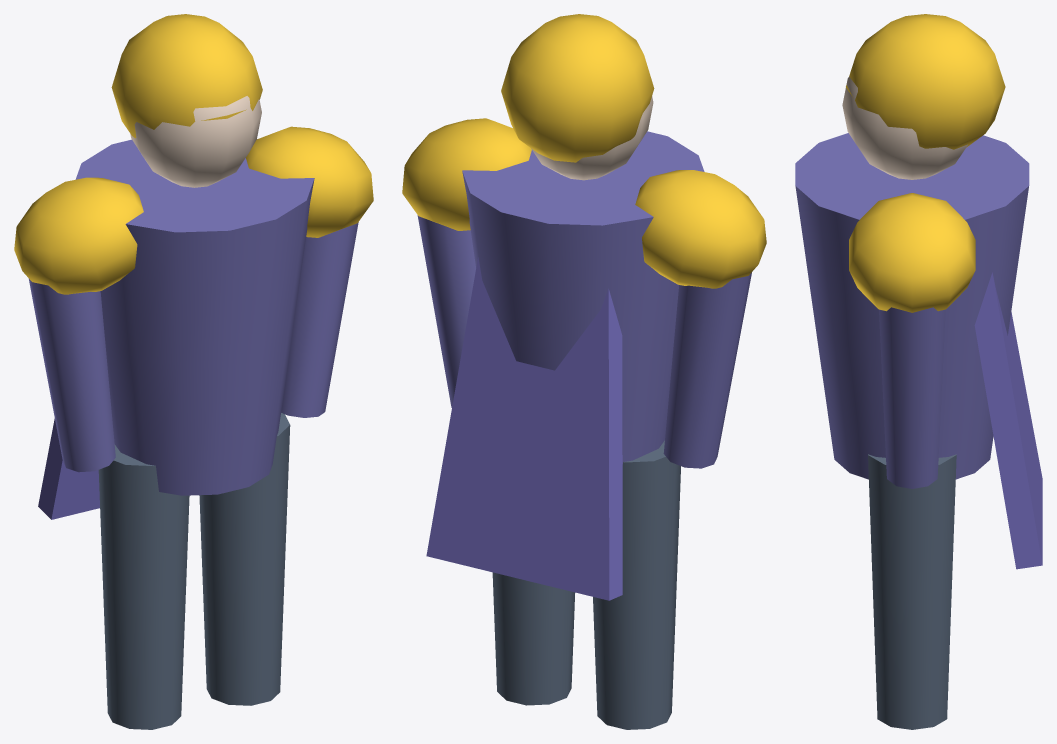
Rendered from hero_mg.glb.
The picture shows the model from 3 angles, left to right: view 1: azimuth 30°, elevation 25°; view 2: azimuth 150°, elevation 25°; view 3: azimuth 270°, elevation 25°; orthographic projection. The views are drawn at different scales.
Visible parts, largest first — view 1: armor_torso, greaves, arms, pauldrons, hair, head, cloak; view 2: cloak, armor_torso, greaves, pauldrons, arms, hair, head; view 3: armor_torso, greaves, hair, pauldrons, arms, cloak, head.
Part boxes in pixels (x1=…): armor_torso: x1=75, y1=139, x2=314, y2=495; greaves: x1=98, y1=413, x2=290, y2=729; arms: x1=28, y1=222, x2=358, y2=472; pauldrons: x1=14, y1=126, x2=373, y2=294; hair: x1=111, y1=14, x2=262, y2=138; head: x1=130, y1=96, x2=261, y2=187; cloak: x1=38, y1=418, x2=99, y2=519; cloak: x1=426, y1=257, x2=622, y2=600; armor_torso: x1=462, y1=131, x2=704, y2=463; greaves: x1=492, y1=440, x2=680, y2=729; pauldrons: x1=402, y1=118, x2=766, y2=288; arms: x1=417, y1=215, x2=751, y2=468; hair: x1=501, y1=14, x2=654, y2=162; head: x1=531, y1=96, x2=653, y2=180; armor_torso: x1=795, y1=133, x2=1029, y2=479; greaves: x1=868, y1=454, x2=956, y2=729; hair: x1=846, y1=14, x2=1005, y2=149; pauldrons: x1=849, y1=193, x2=975, y2=312; arms: x1=879, y1=307, x2=945, y2=488; cloak: x1=974, y1=272, x2=1042, y2=569; head: x1=842, y1=76, x2=967, y2=179.
Size of the model in its own units: 1.18 by 2.22 by 0.7421.
